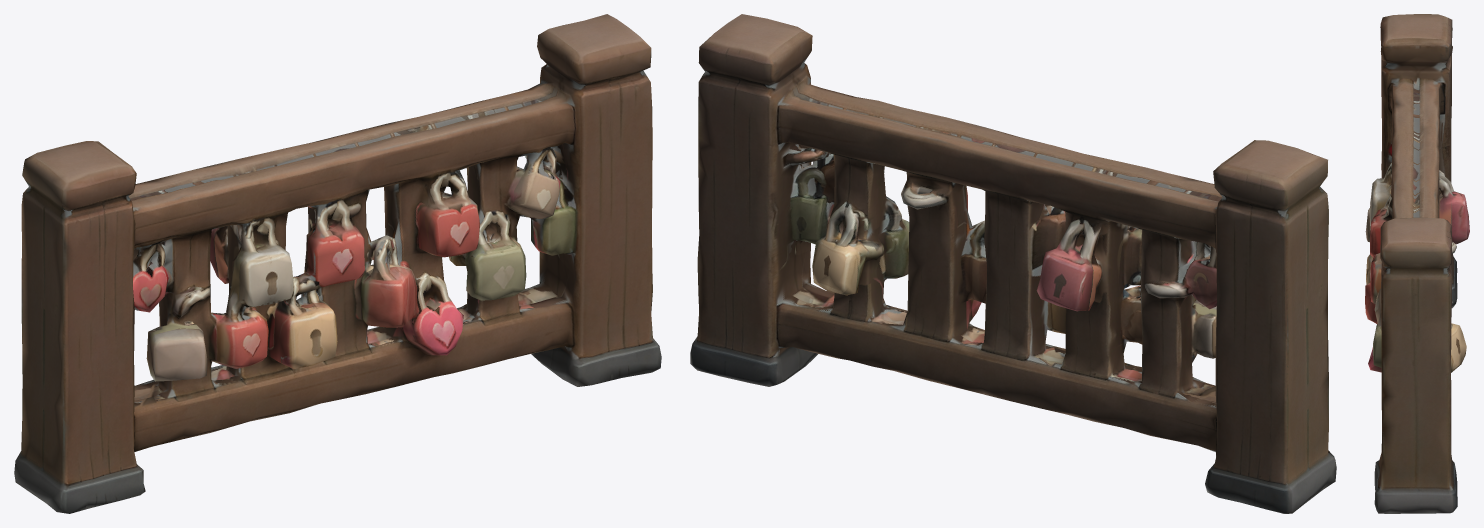
Rendered from 자물쇠 펜스.glb.
3 views of the same model, side by side, from view 1: azimuth 30°, elevation 25°; view 2: azimuth 150°, elevation 25°; view 3: azimuth 270°, elevation 25° (orthographic). The views are drawn at different scales.
Visible parts, largest first — view 1: texture_mapping; view 2: texture_mapping; view 3: texture_mapping.
Boxes of the visible parts, x1=… form: texture_mapping: x1=14, y1=14, x2=661, y2=513; texture_mapping: x1=690, y1=14, x2=1336, y2=513; texture_mapping: x1=1365, y1=14, x2=1469, y2=513.
Bounding box in the file's own units: 0.9939 × 0.5214 × 0.1842.
1 material, 1 textured.
